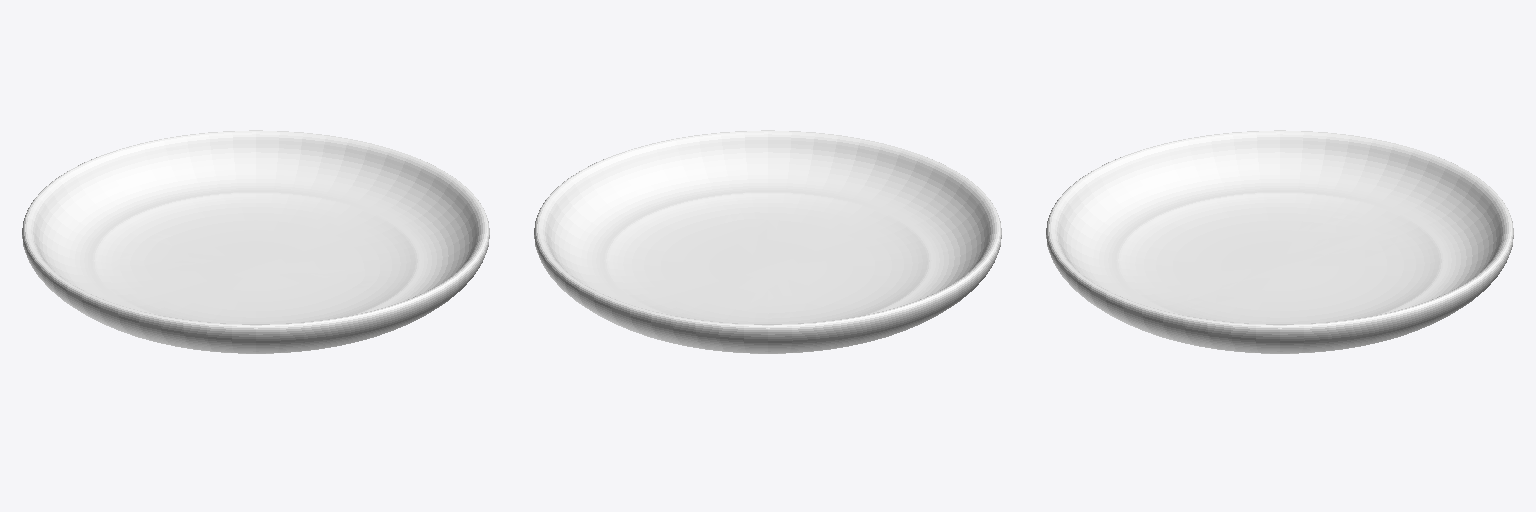
The model's file is plate.obj.
3 views of the same model, side by side, from view 1: azimuth 30°, elevation 25°; view 2: azimuth 150°, elevation 25°; view 3: azimuth 270°, elevation 25° (orthographic).
Visible parts, largest first — view 1: Plate_4273; view 2: Plate_4273; view 3: Plate_4273.
Part boxes in pixels (x1,y1,x2,y2): Plate_4273: (22, 130, 489, 353); Plate_4273: (534, 130, 1001, 353); Plate_4273: (1046, 130, 1513, 353).
Bounding box in the file's own units: 0.6975 × 0.0923 × 0.6975.